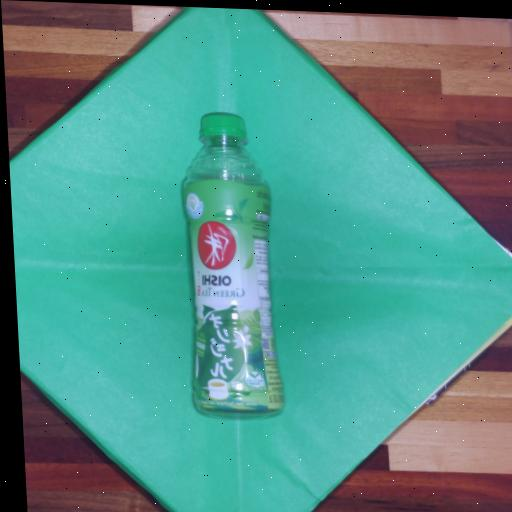bottle: (156, 100, 310, 452)
